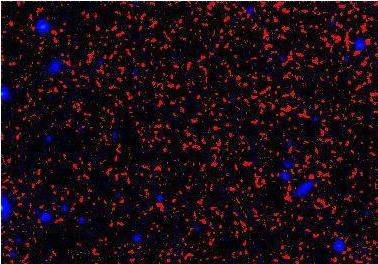star: (273, 45, 303, 75)
